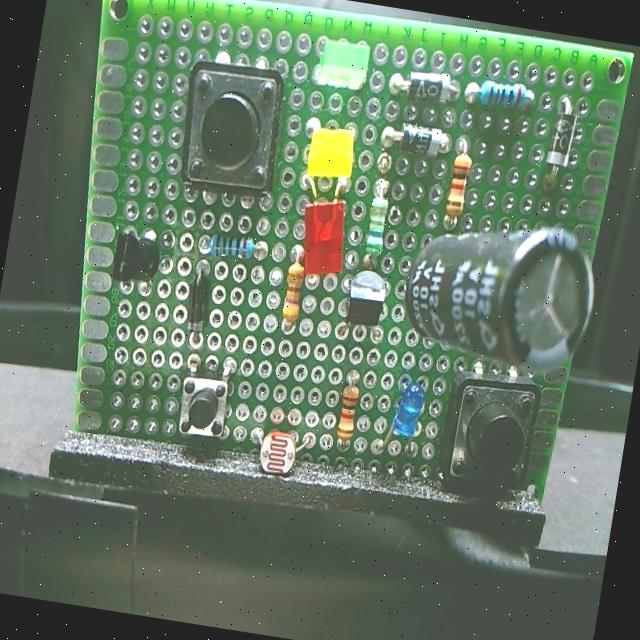Electrolytic capacitor: (388, 200, 608, 388)
cds: (239, 413, 317, 483)
diode: (534, 86, 582, 200), (379, 64, 463, 118), (369, 114, 449, 164), (176, 253, 219, 344)
led: (291, 190, 358, 283), (294, 119, 364, 199), (370, 374, 430, 464), (308, 32, 380, 98)
resistor: (190, 223, 274, 277), (458, 68, 540, 123), (326, 366, 372, 460), (438, 130, 478, 237), (358, 176, 397, 274), (272, 242, 309, 341)
switch: (169, 44, 295, 215), (432, 360, 554, 508), (166, 350, 242, 452)
transistor: (103, 218, 180, 304), (329, 262, 401, 341)
